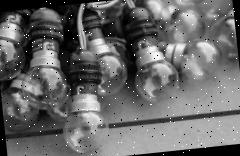lightbulb: (0, 0, 240, 156), (130, 38, 181, 104)
